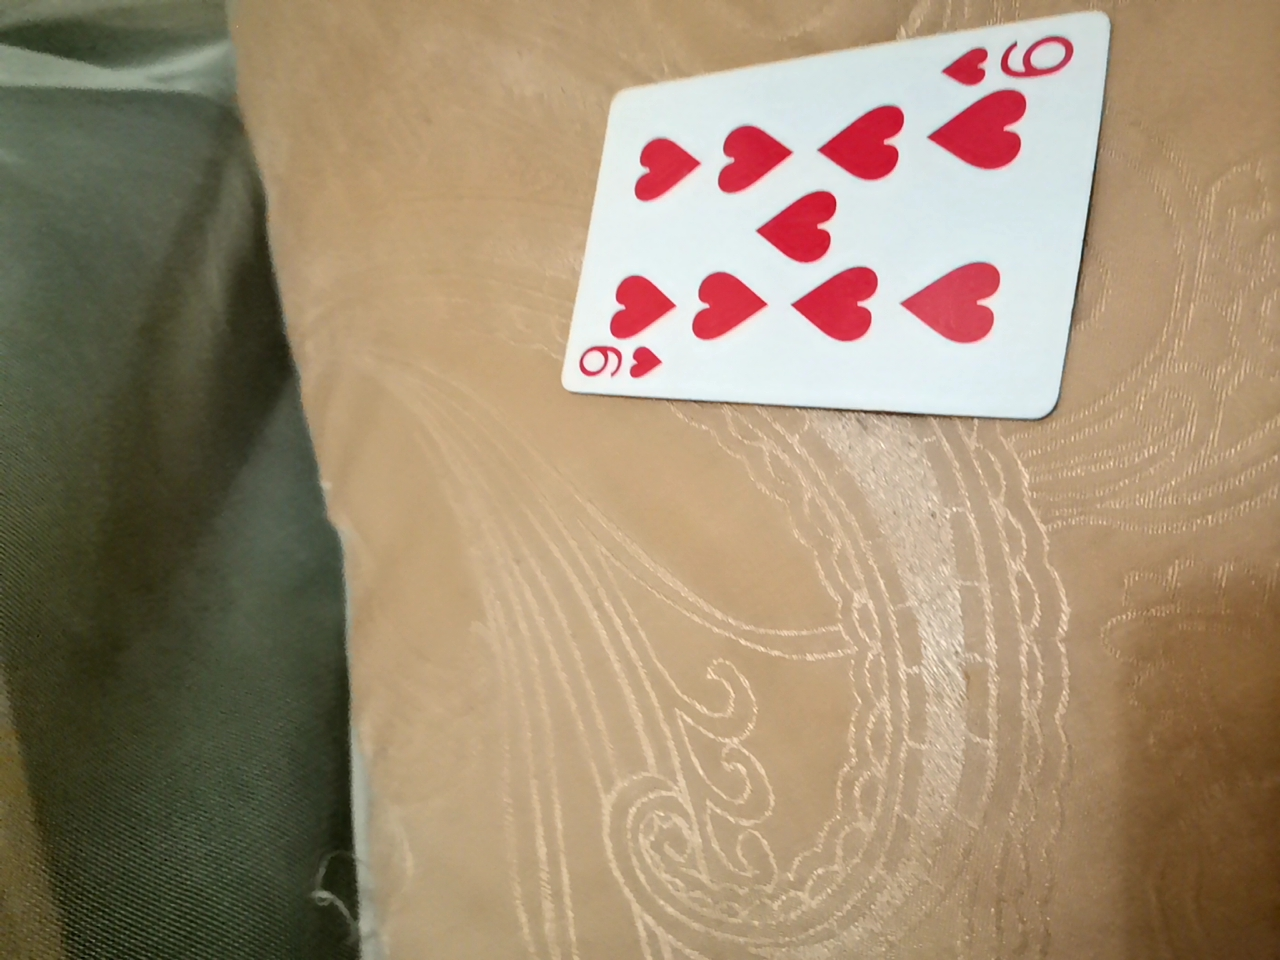hx 9: (500, 47, 1061, 446)
